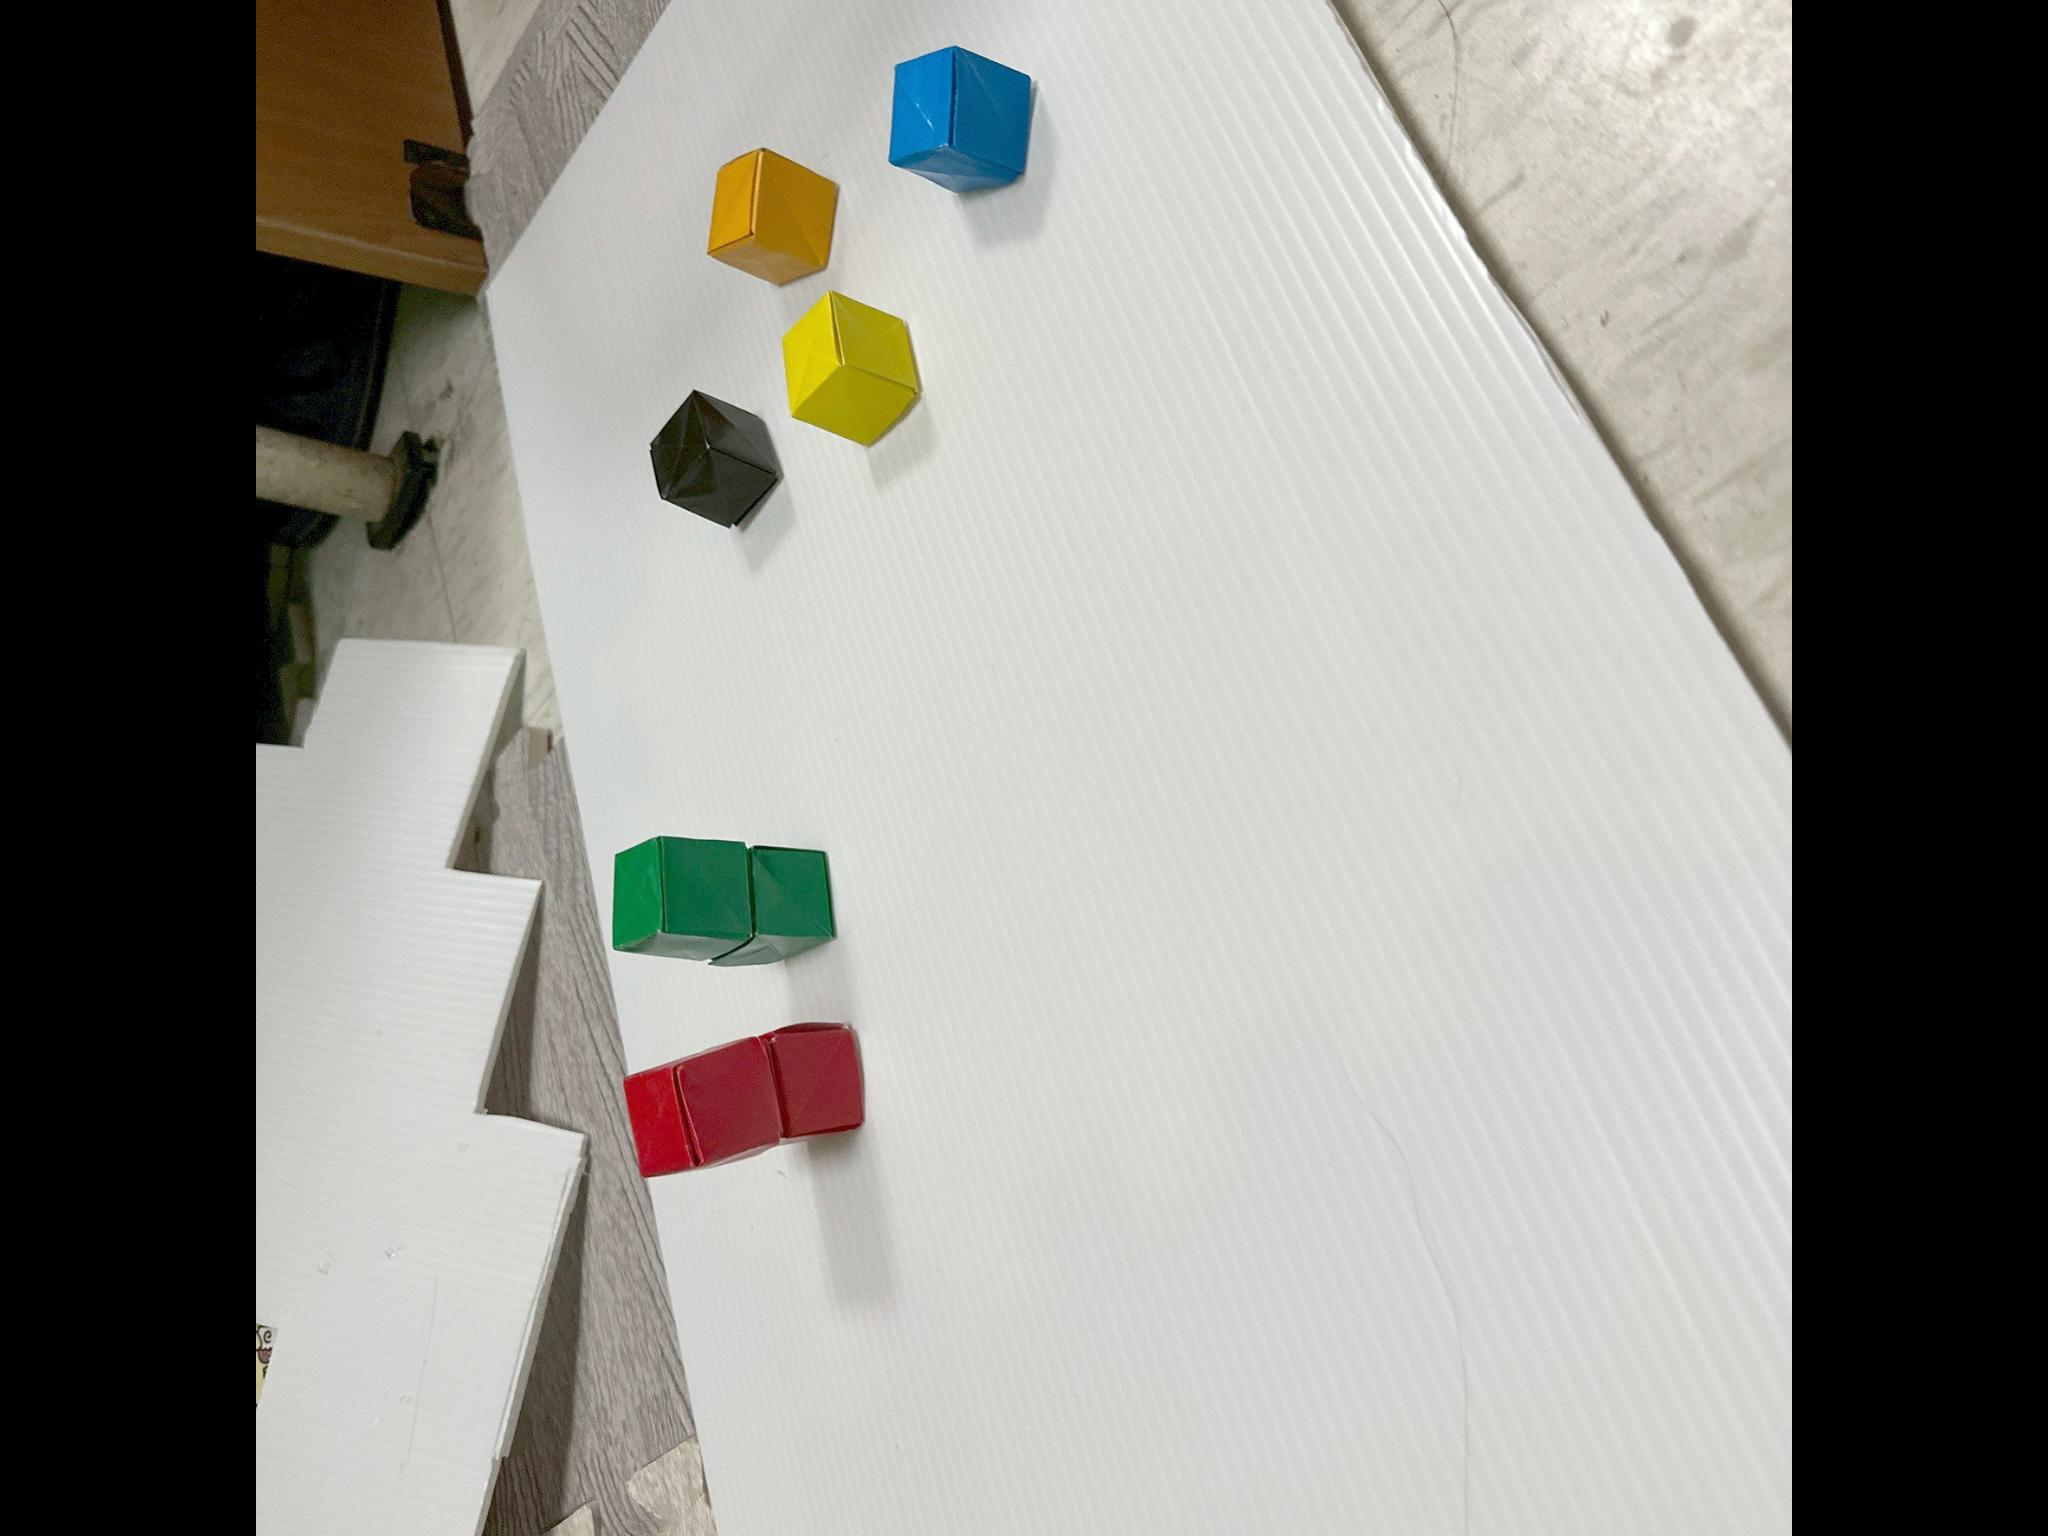cube: (626, 1036, 782, 1175), (889, 45, 1032, 190), (782, 292, 919, 444), (650, 390, 780, 526), (708, 148, 839, 284), (611, 836, 753, 960), (719, 845, 835, 963), (760, 1023, 864, 1139)
